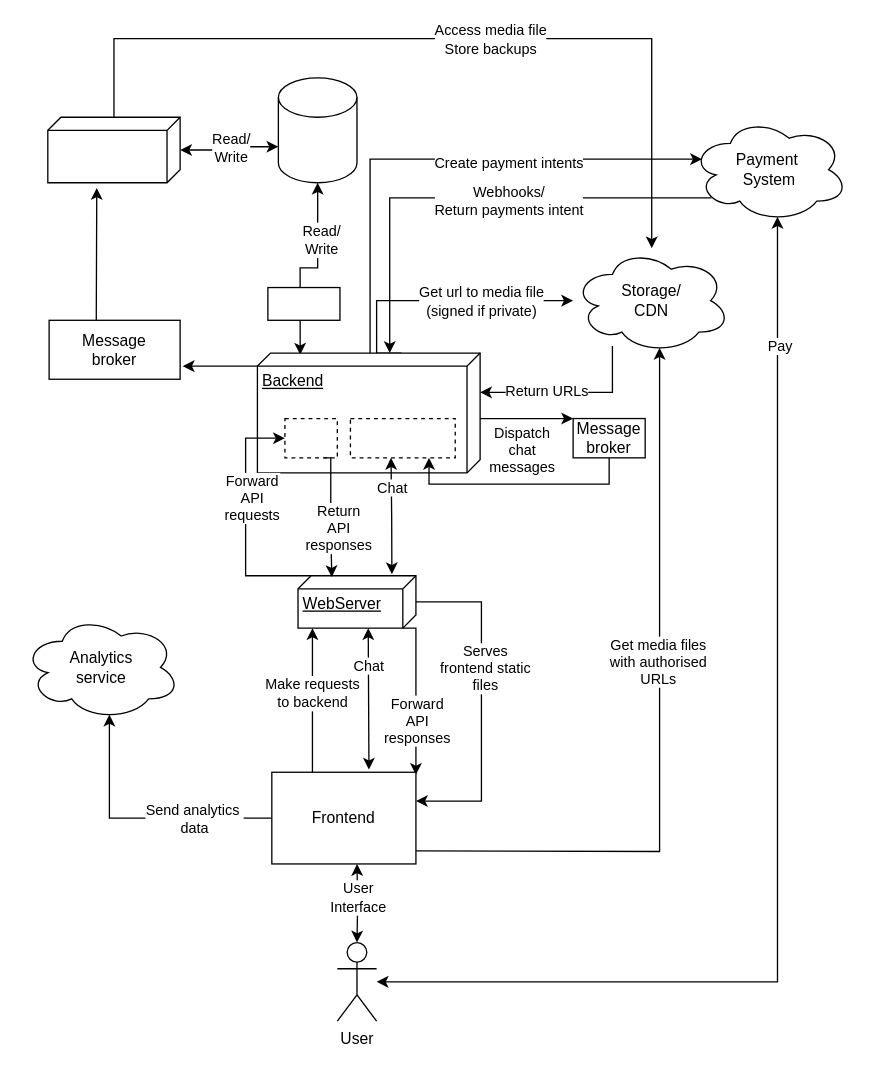
Image size: 871x1072. Some labels were removed from this diagram. Each missing label, with the centre of its shape:
"Asynchronous tasks runner" goes at (113,149).
"Cache" goes at (303,303).
"Database" goes at (317,130).
"HTTP" goes at (310,437).
"WebSockets" goes at (402,437).
